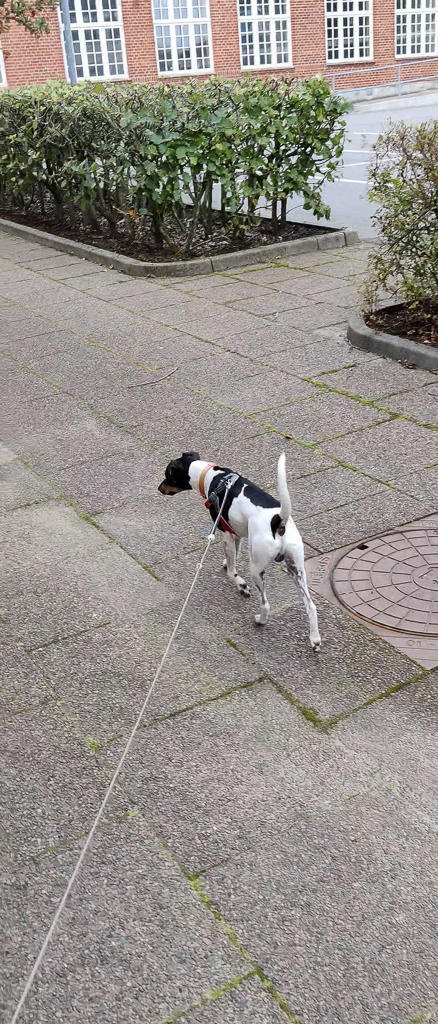Dog: (151, 435, 335, 664)
